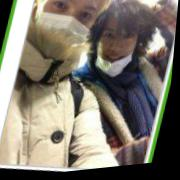OK: (25, 1, 105, 68)
WRONG: (93, 21, 144, 82)
